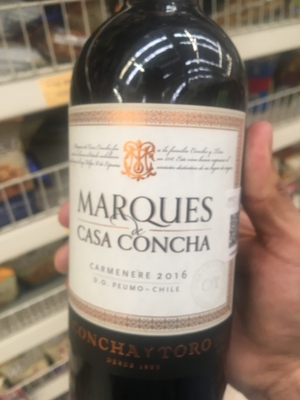marques de casa concha carmenere: (62, 20, 244, 400)
